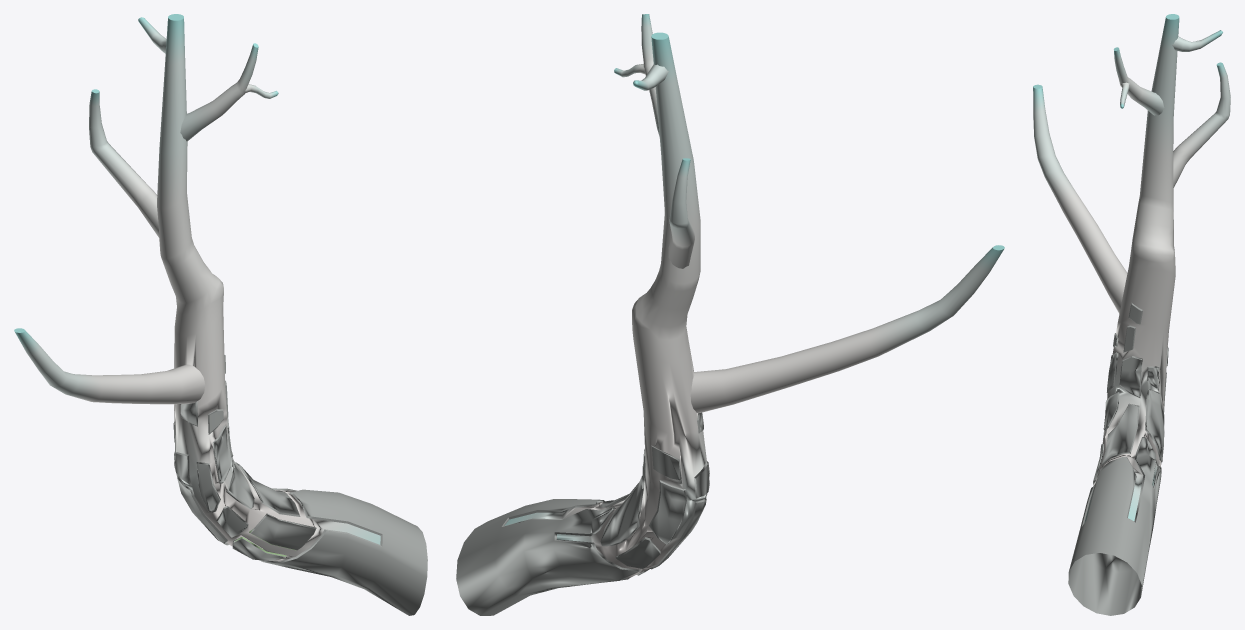
3 renders of one model, left to right at view 1: azimuth 30°, elevation 25°; view 2: azimuth 150°, elevation 25°; view 3: azimuth 270°, elevation 25°, orthographic. The views are drawn at different scales.
Parts seen in each view (by area): view 1: G:\FFXIV-MapTools\exports\x6f3\bg\ex5\01_xkt_x6\fld\x6f3\bgp (×3); view 2: G:\FFXIV-MapTools\exports\x6f3\bg\ex5\01_xkt_x6\fld\x6f3\bgp (×3); view 3: G:\FFXIV-MapTools\exports\x6f3\bg\ex5\01_xkt_x6\fld\x6f3\bgp (×3).
Part boxes in pixels (box(x1,y1,x2,y2)): G:\FFXIV-MapTools\exports\x6f3\bg\ex5\01_xkt_x6\fld\x6f3\bgp (×3): box(14, 14, 427, 615); G:\FFXIV-MapTools\exports\x6f3\bg\ex5\01_xkt_x6\fld\x6f3\bgp (×3): box(456, 14, 1004, 615); G:\FFXIV-MapTools\exports\x6f3\bg\ex5\01_xkt_x6\fld\x6f3\bgp (×3): box(1033, 14, 1230, 615).
Size of the model in its own units: 47.77 by 62.18 by 21.43.
